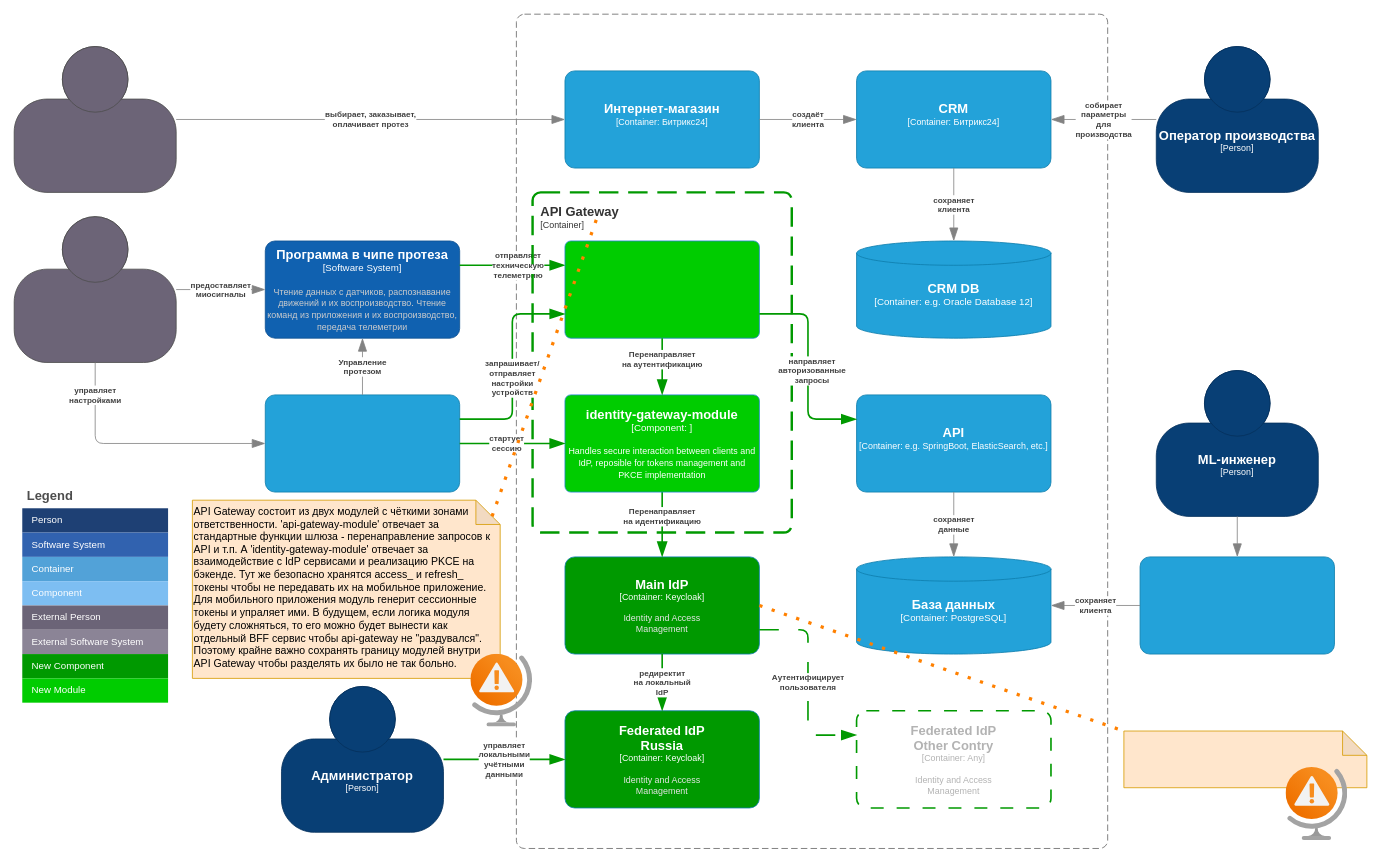
Some shapes in this 1381 by 863 pixel diagram are drawn without their labels. Each missing label, with the box of its shape:
api-gateway-module [Component: ] Handles standard features of API gateway: (564, 240, 759, 338)
BionicPRO [Software System]: (516, 13, 1108, 848)
cli tool [Container: e.g. SpringBoot, ElasticSearch, etc.]: (1139, 556, 1334, 654)
Main IDP реализует Federated Identity для управления SSO разных стран.: (1123, 730, 1367, 788)
Пилот протеза [Person] С этого человека считываются данные: (13, 216, 176, 362)
Покупатель протеза [Person]: (13, 46, 176, 192)
Приложение для донастройки протеза [Container: iOD, Android]: (264, 394, 460, 492)
